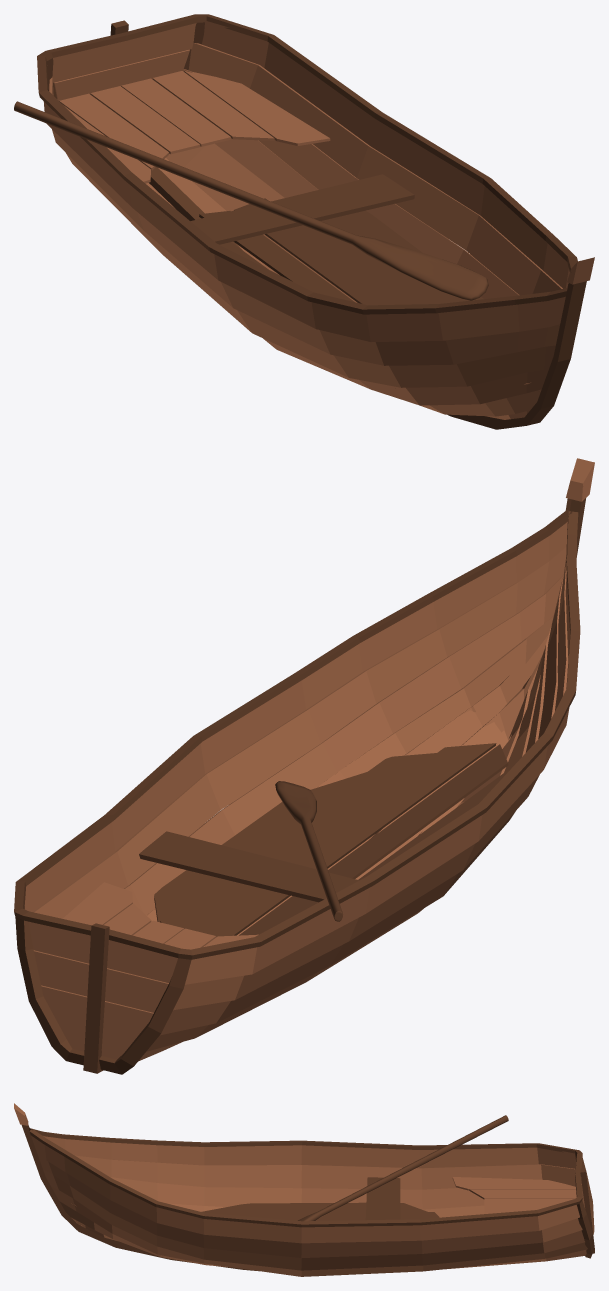
File: Boat.fbx
3 renders of one model, top to bottom at view 1: azimuth 30°, elevation 25°; view 2: azimuth 150°, elevation 25°; view 3: azimuth 270°, elevation 25°, orthographic. The views are drawn at different scales.
Parts seen in each view (by area): view 1: Cube.067, Cube.071; view 2: Cube.067, Cube.071; view 3: Cube.067, Cube.071.
Part boxes in pixels (x1=…): Cube.067: x1=37, y1=14, x2=594, y2=429; Cube.071: x1=14, y1=101, x2=488, y2=300; Cube.067: x1=14, y1=458, x2=594, y2=1074; Cube.071: x1=275, y1=781, x2=342, y2=921; Cube.067: x1=14, y1=1103, x2=594, y2=1276; Cube.071: x1=298, y1=1115, x2=508, y2=1221.
Size of the model in its own units: 1390 by 1174 by 3694.
